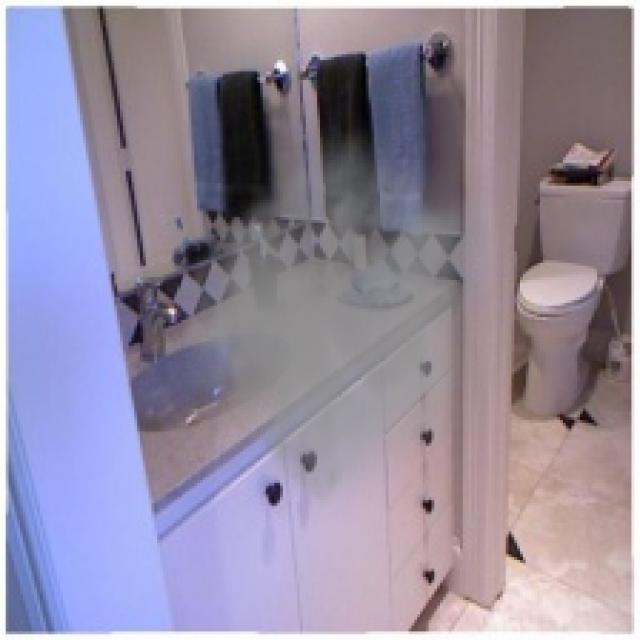smoke: (146, 111, 488, 523)
